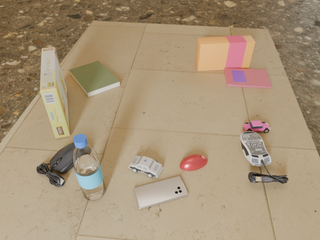book: (69, 61, 120, 97), (224, 68, 272, 88)
bottle: (73, 134, 105, 200)
box: (40, 47, 70, 138), (195, 35, 255, 71)
mouse: (37, 143, 76, 187), (240, 131, 271, 166), (180, 154, 207, 171)
phone: (133, 176, 188, 209)
toy_car: (128, 156, 163, 178), (243, 121, 270, 133)
